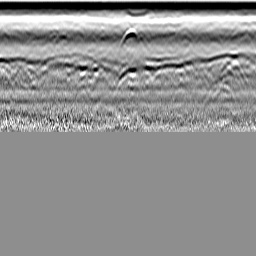cavity: (118, 28, 139, 45)
